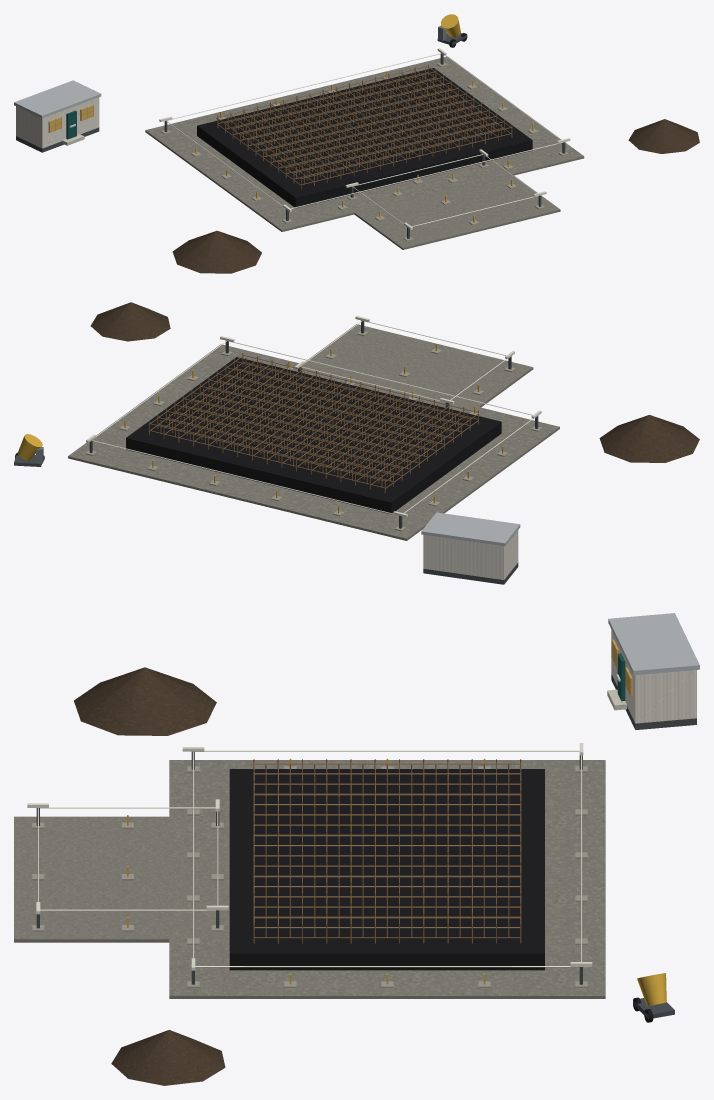
File: lf-3-site.glb
3 views of the same model, one above another, from view 1: azimuth 30°, elevation 25°; view 2: azimuth 150°, elevation 25°; view 3: azimuth 270°, elevation 25° (orthographic). The views are drawn at different scales.
Size of the model in its own units: 39.99 by 3.45 by 28.29.
Materials: 16 (7 with a texture image).
